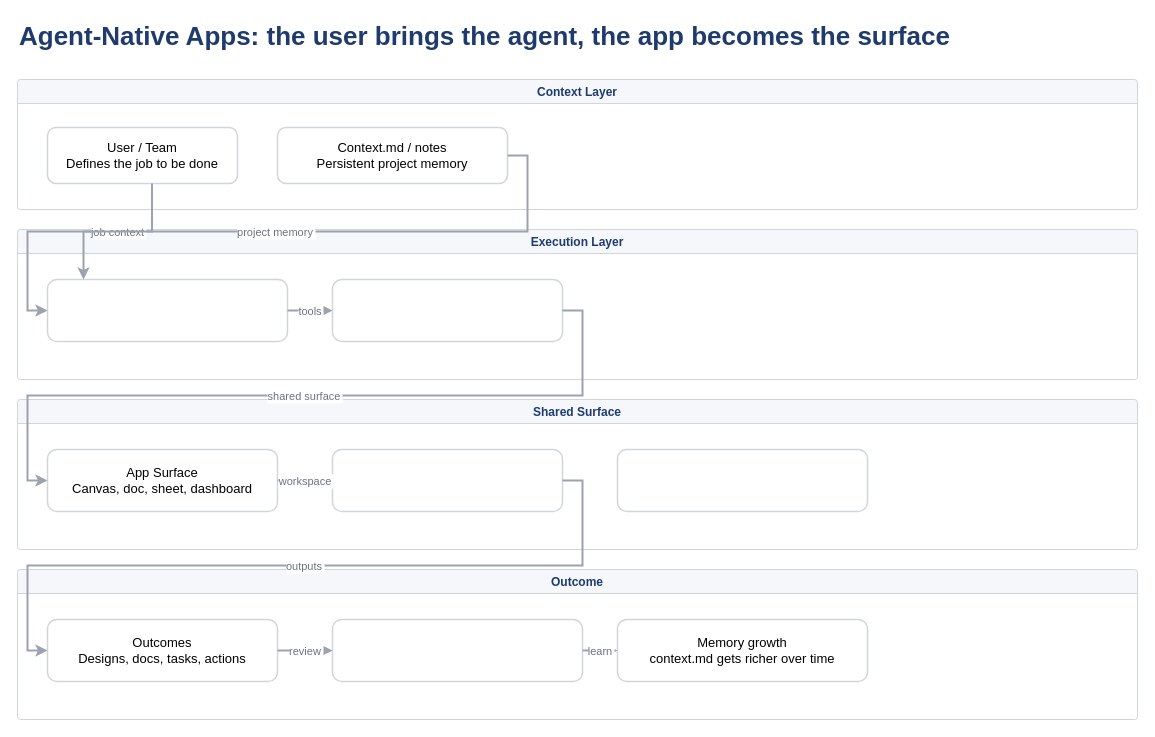
Some shapes in this 1155 by 737 pixel diagram are drawn without their labels. The shapes that lost their labels are listed below. From the top down, each one's centre as x and y in pixels, then its label:
At point (167, 310): "Cursor / Codex / Agent Host Owns the loop and judgment".
At point (447, 310): "MCP / CLI / API Atomic tools, not workflows".
At point (447, 480): "Shared Workspace Same files, same state".
At point (742, 480): "External Systems Miro, Notion, Sheets, browser".
At point (457, 650): "User review Immediate correction and approval".
